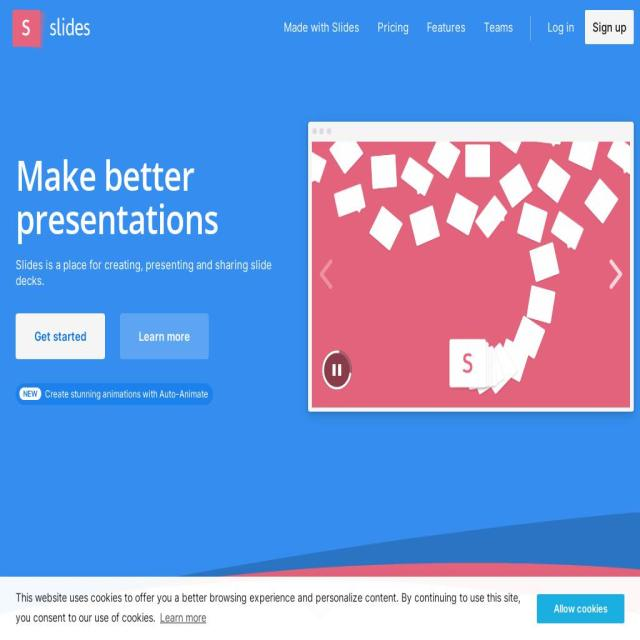button: (258, 578, 382, 640), (16, 383, 213, 405), (16, 313, 105, 360), (120, 313, 209, 360), (276, 10, 367, 45), (536, 594, 624, 624), (419, 10, 473, 45), (585, 10, 634, 45), (370, 10, 416, 45), (476, 10, 521, 45), (540, 10, 582, 45), (158, 606, 208, 629), (12, 10, 40, 47)
heading: (16, 153, 300, 241), (423, 265, 548, 343), (16, 257, 300, 289), (408, 291, 553, 332)
image: (0, 0, 640, 640), (447, 338, 517, 414), (465, 343, 508, 400), (476, 340, 518, 397), (494, 337, 533, 388), (546, 209, 590, 253), (524, 284, 562, 334), (527, 241, 565, 291), (514, 201, 552, 251), (534, 156, 572, 206), (497, 162, 535, 212), (408, 204, 446, 254), (463, 144, 501, 194), (424, 132, 462, 182), (444, 191, 482, 241), (366, 204, 404, 254), (369, 154, 407, 204), (510, 314, 548, 364), (566, 128, 604, 178), (582, 176, 620, 226), (327, 126, 365, 176), (492, 108, 530, 158), (473, 193, 516, 237), (332, 182, 375, 226), (290, 144, 333, 188), (396, 155, 439, 198), (530, 116, 573, 159), (603, 134, 640, 178), (45, 15, 95, 40), (16, 8, 44, 46), (14, 8, 42, 46), (12, 10, 40, 47), (302, 598, 326, 604), (318, 598, 340, 604), (312, 128, 318, 135), (326, 128, 332, 135), (320, 128, 324, 135), (465, 346, 469, 352)
text: (16, 590, 521, 625), (45, 387, 208, 400), (284, 18, 359, 37), (426, 18, 466, 37), (592, 18, 626, 37), (378, 18, 408, 37), (484, 18, 513, 37), (548, 18, 574, 37)
